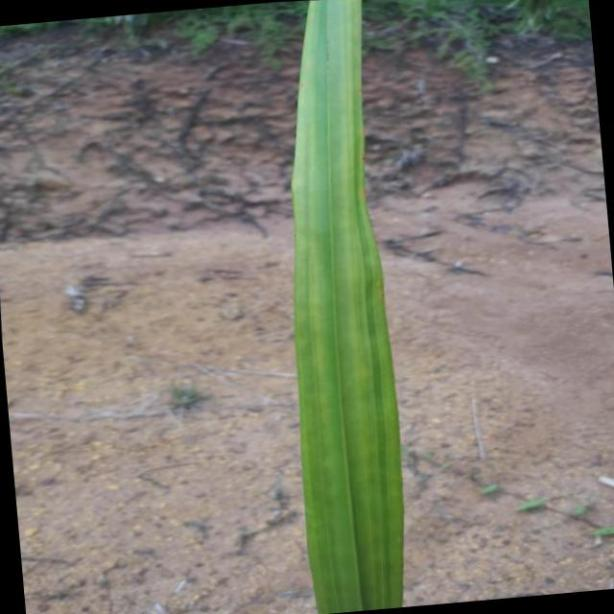nitrogen: (290, 0, 405, 614)
